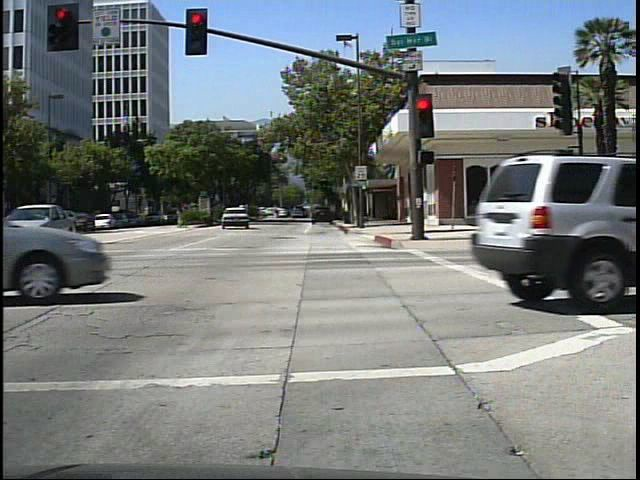person: (272, 205, 284, 223)
